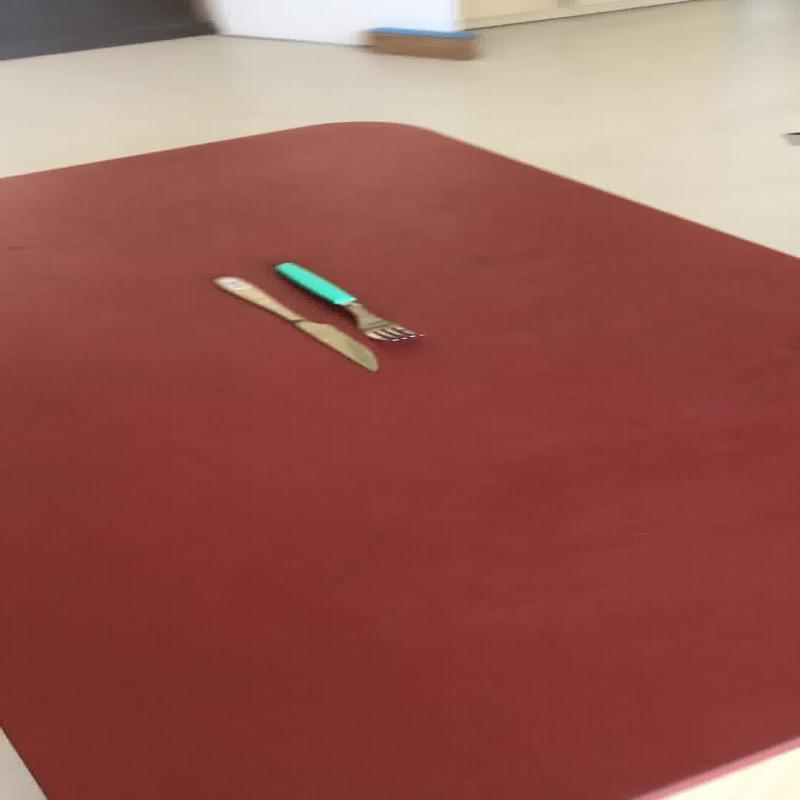fork: (272, 260, 424, 342)
knife: (212, 274, 378, 372)
